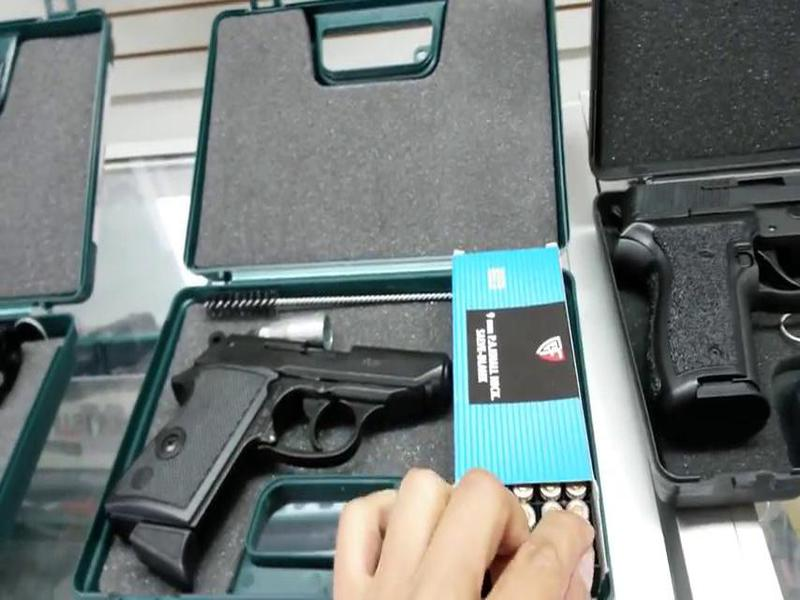Pistola: (93, 314, 473, 570)
